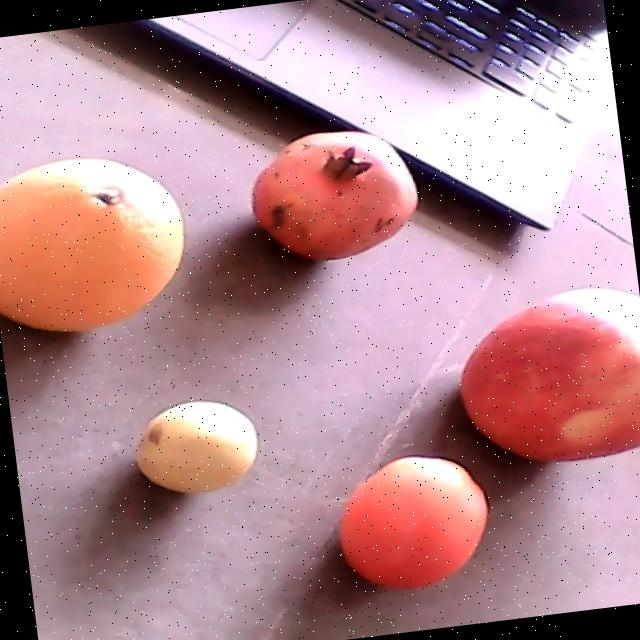apple: (460, 288, 640, 460)
lemon: (135, 398, 259, 493)
orange: (0, 157, 183, 329)
pomegranate: (251, 129, 417, 261)
tomato: (340, 460, 486, 587)
